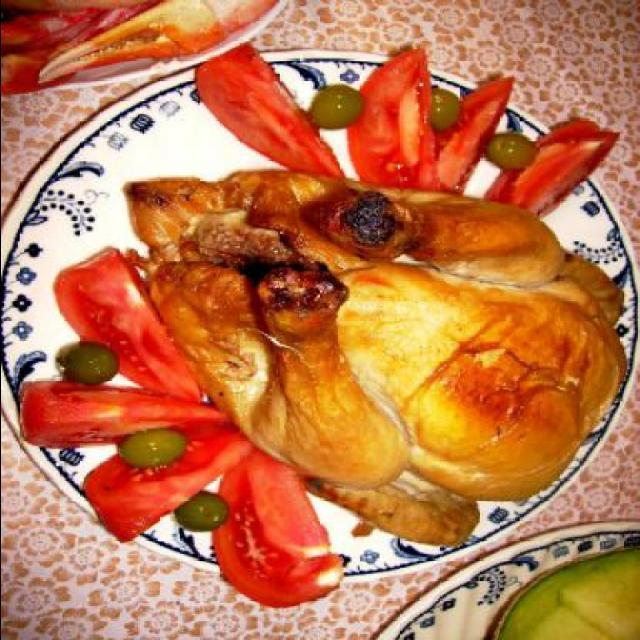Chicken roast: (174, 206, 598, 548)
Tomato: (88, 420, 225, 551), (203, 38, 315, 180), (216, 452, 316, 610), (25, 370, 207, 447), (65, 245, 162, 382), (356, 48, 446, 188), (502, 118, 614, 226), (422, 72, 516, 200)
